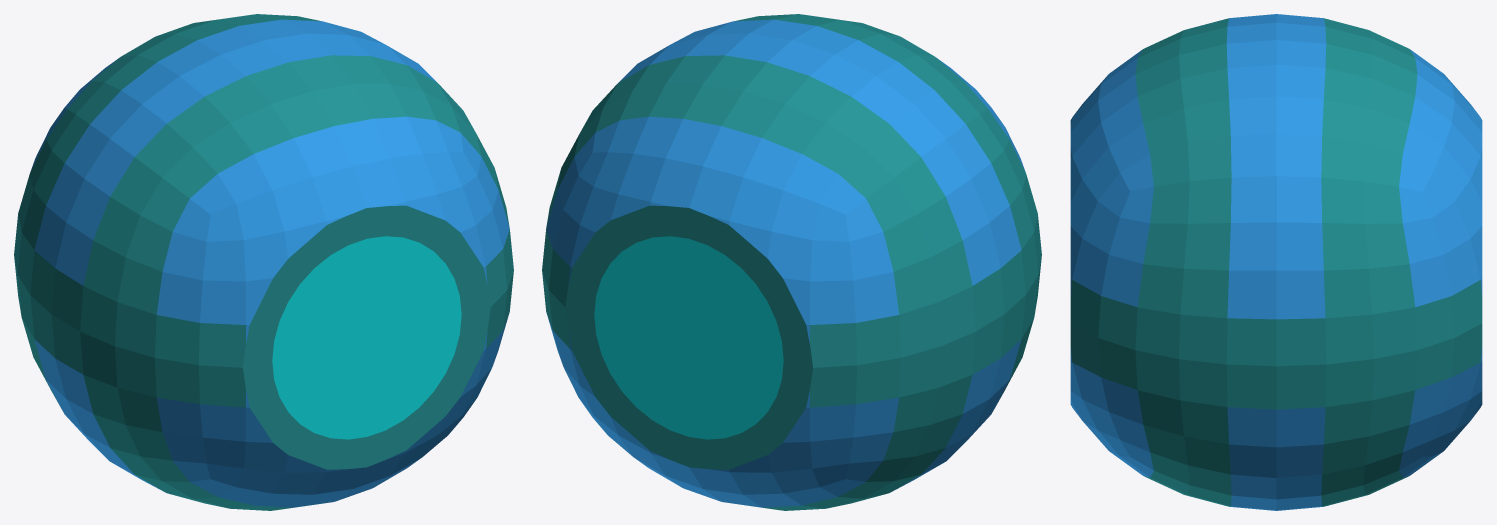
Rendered from piernas-esferaPlayer.glb.
3 renders of one model, left to right at view 1: azimuth 30°, elevation 25°; view 2: azimuth 150°, elevation 25°; view 3: azimuth 270°, elevation 25°, orthographic.
Parts seen in each view (by area): view 1: Cube; view 2: Cube; view 3: Cube.
Boxes of the visible parts, x1,y1,x2,y2 form: Cube: (14, 14, 513, 510); Cube: (542, 14, 1041, 510); Cube: (1070, 14, 1482, 510).
Bounding box in the file's own units: 1.68 × 1.68 × 1.41.
